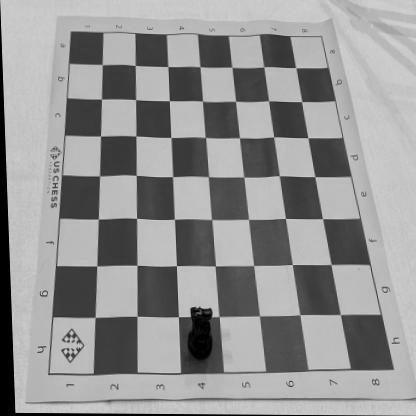black-knight: (184, 306, 212, 362)
